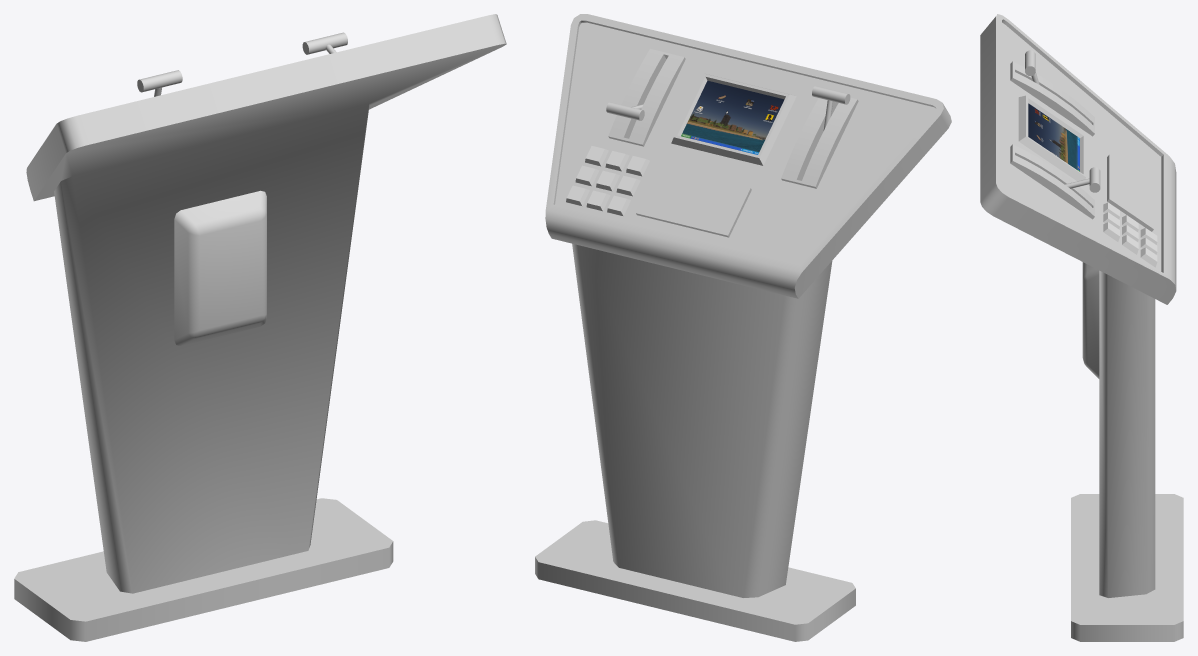
Rendered from console.fbx.
3 renders of one model, left to right at view 1: azimuth 30°, elevation 25°; view 2: azimuth 150°, elevation 25°; view 3: azimuth 270°, elevation 25°, orthographic. The views are drawn at different scales.
Visible parts, largest first — view 1: console, console levers; view 2: console, console levers, console screen, console touch pad, console buttons; view 3: console, console levers, console screen, console touch pad, console buttons.
Part boxes in pixels (bbox=[...]): console: bbox=[14, 14, 506, 641]; console levers: bbox=[137, 32, 347, 96]; console: bbox=[535, 14, 951, 641]; console levers: bbox=[606, 49, 858, 188]; console screen: bbox=[671, 73, 796, 165]; console touch pad: bbox=[636, 165, 751, 237]; console buttons: bbox=[566, 146, 649, 216]; console: bbox=[980, 14, 1183, 641]; console levers: bbox=[1010, 50, 1100, 219]; console screen: bbox=[1018, 95, 1085, 185]; console touch pad: bbox=[1107, 154, 1153, 231]; console buttons: bbox=[1103, 202, 1157, 267].
Size of the model in its own units: 112 by 141 by 54.32.
Materials: 3 (1 with a texture image).
